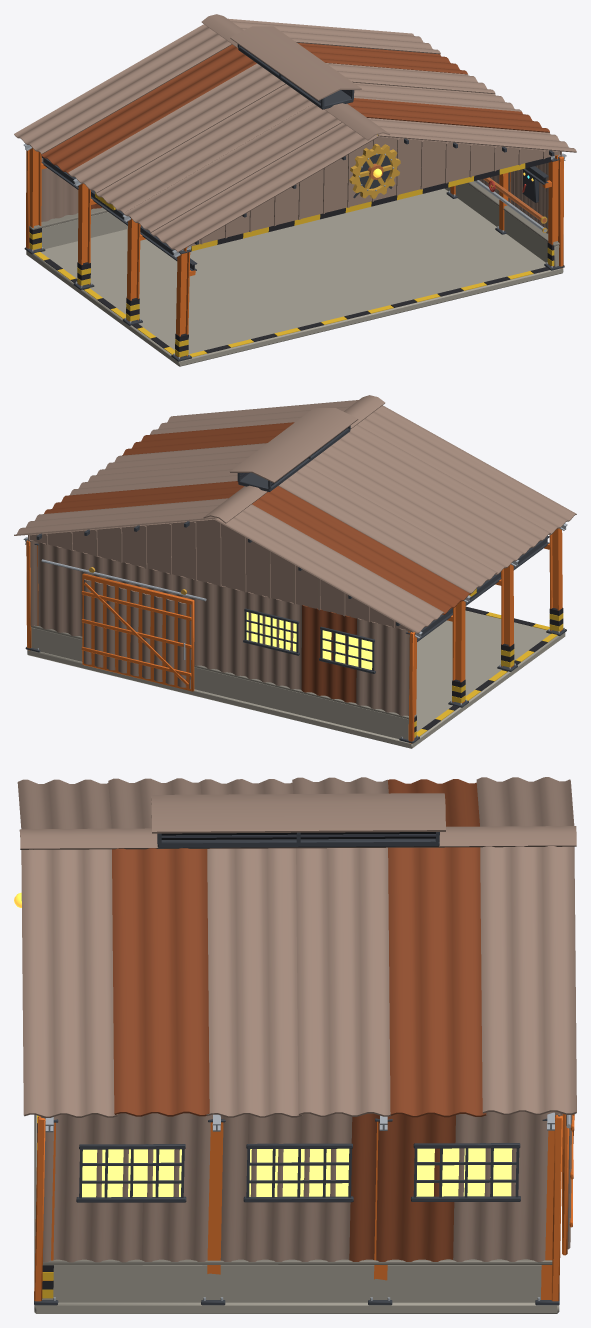
The model's file is bld_factory_shed.glb.
The picture shows the model from 3 angles, top to bottom: view 1: azimuth 30°, elevation 25°; view 2: azimuth 150°, elevation 25°; view 3: azimuth 270°, elevation 25°; orthographic projection. The views are drawn at different scales.
Parts seen in each view (by area): view 1: FactoryShed; view 2: FactoryShed; view 3: FactoryShed.
Part boxes in pixels (left/top/right/bottom): FactoryShed: left=14, top=14, right=576, bottom=366; FactoryShed: left=14, top=395, right=576, bottom=748; FactoryShed: left=14, top=777, right=576, bottom=1313.
Size of what is drawn, in the model's own units: 20.37 by 9.92 by 14.37.
